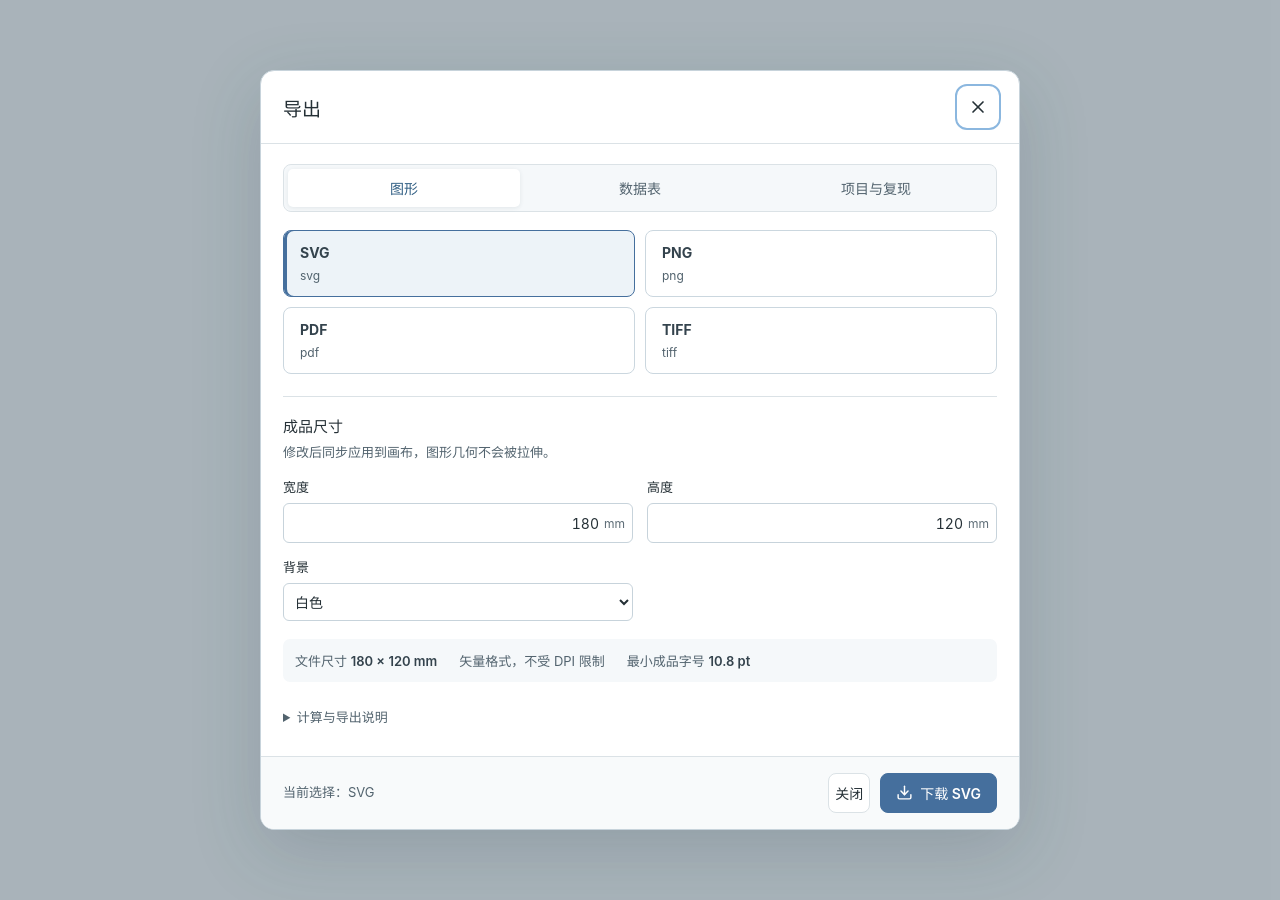
Test case: unified export settings › shows DPI only for raster and preserves settings when switching formats
The width and height of the screenshot is (1280, 900).
expect the field labelled "位图分辨率 DPI" is not shown: met
Click the button "PNG png": {"x": 677, "y": 253} [645,230,997,297]
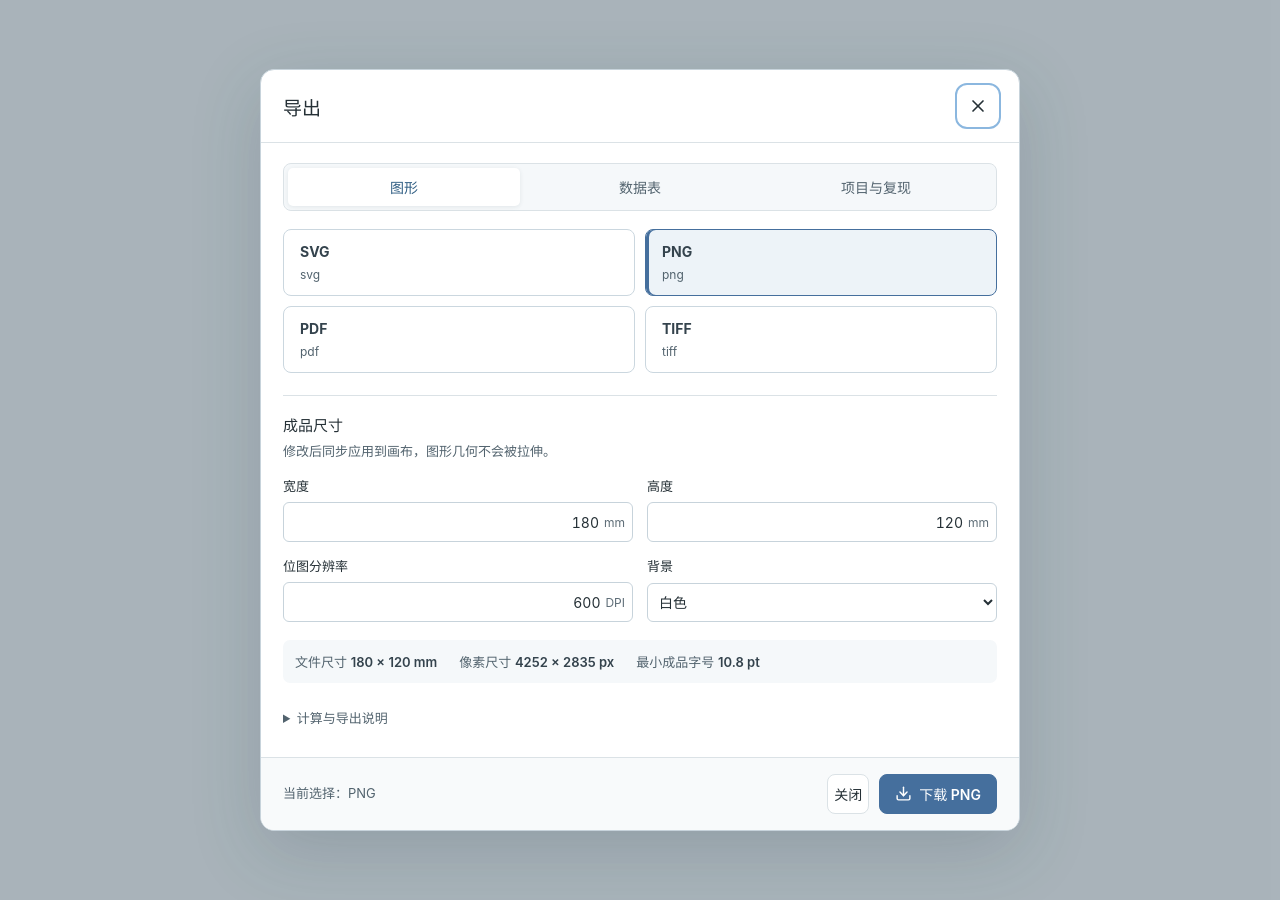
Replace the text in the number field labelled "位图分辨率 DPI" with "300": {"x": 445, "y": 602} [284,583,606,621]
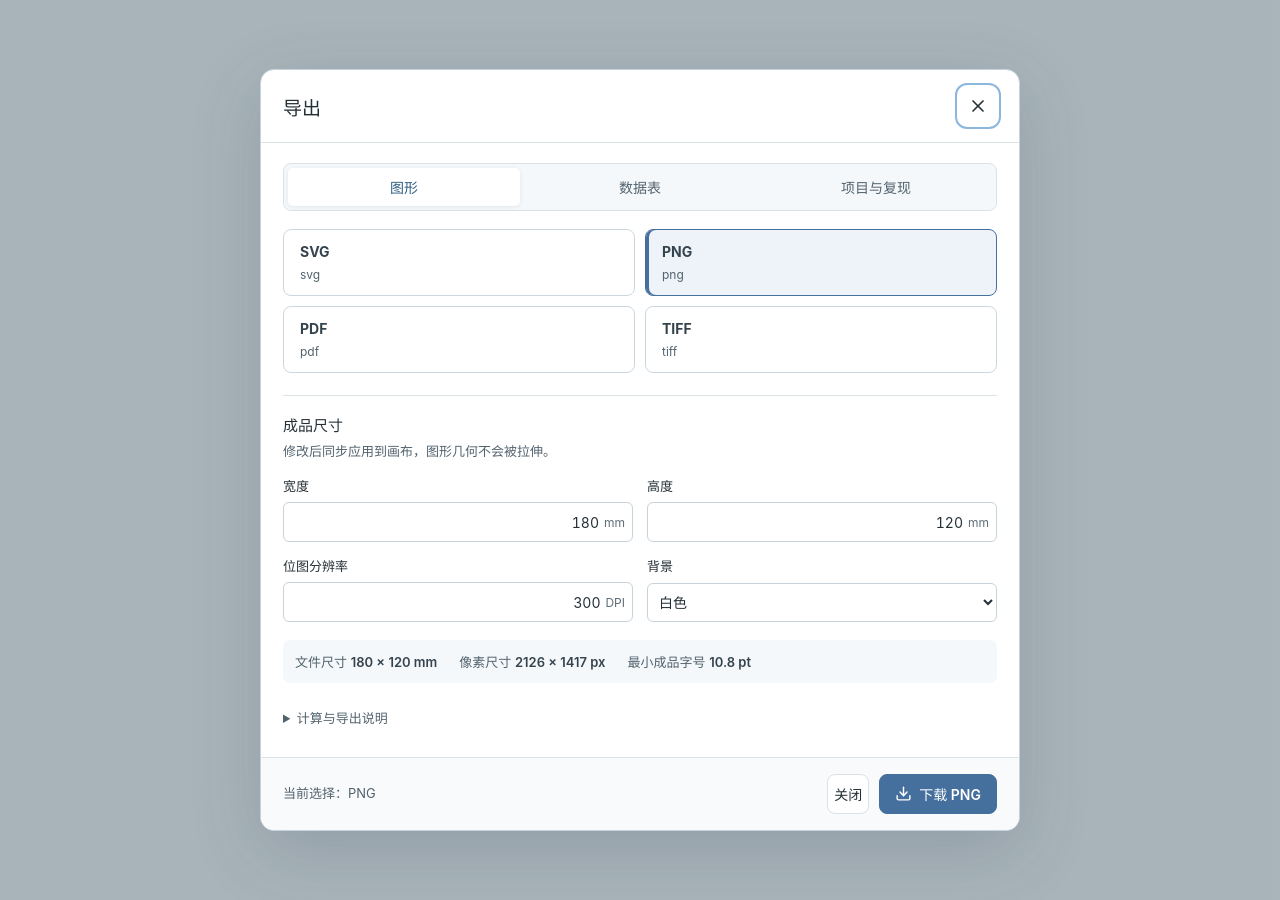
Replace the text in the number field named "成品宽度 mm" with "210": {"x": 444, "y": 522} [284,503,604,541]
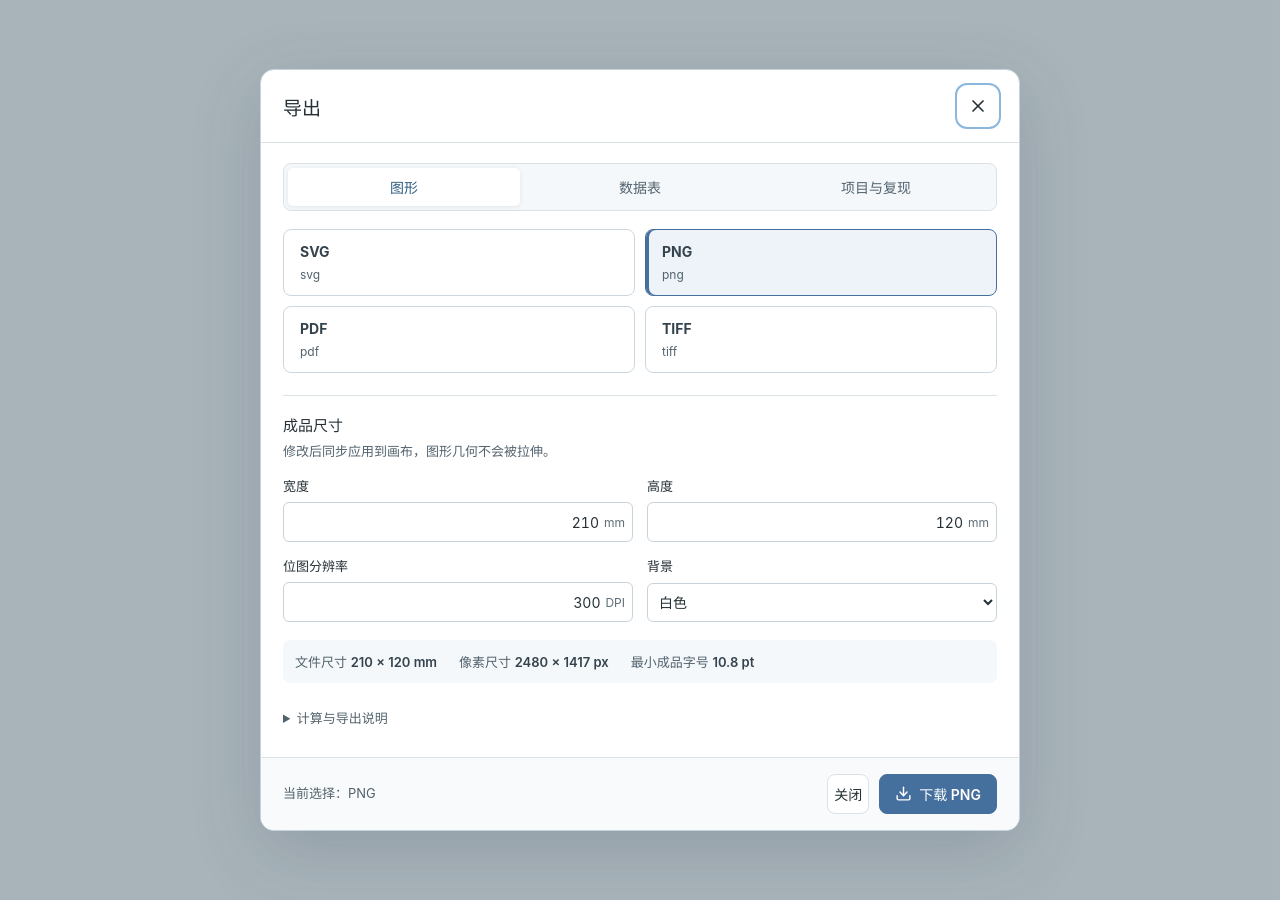
Click the button "SVG svg": {"x": 315, "y": 252} [283,229,635,296]
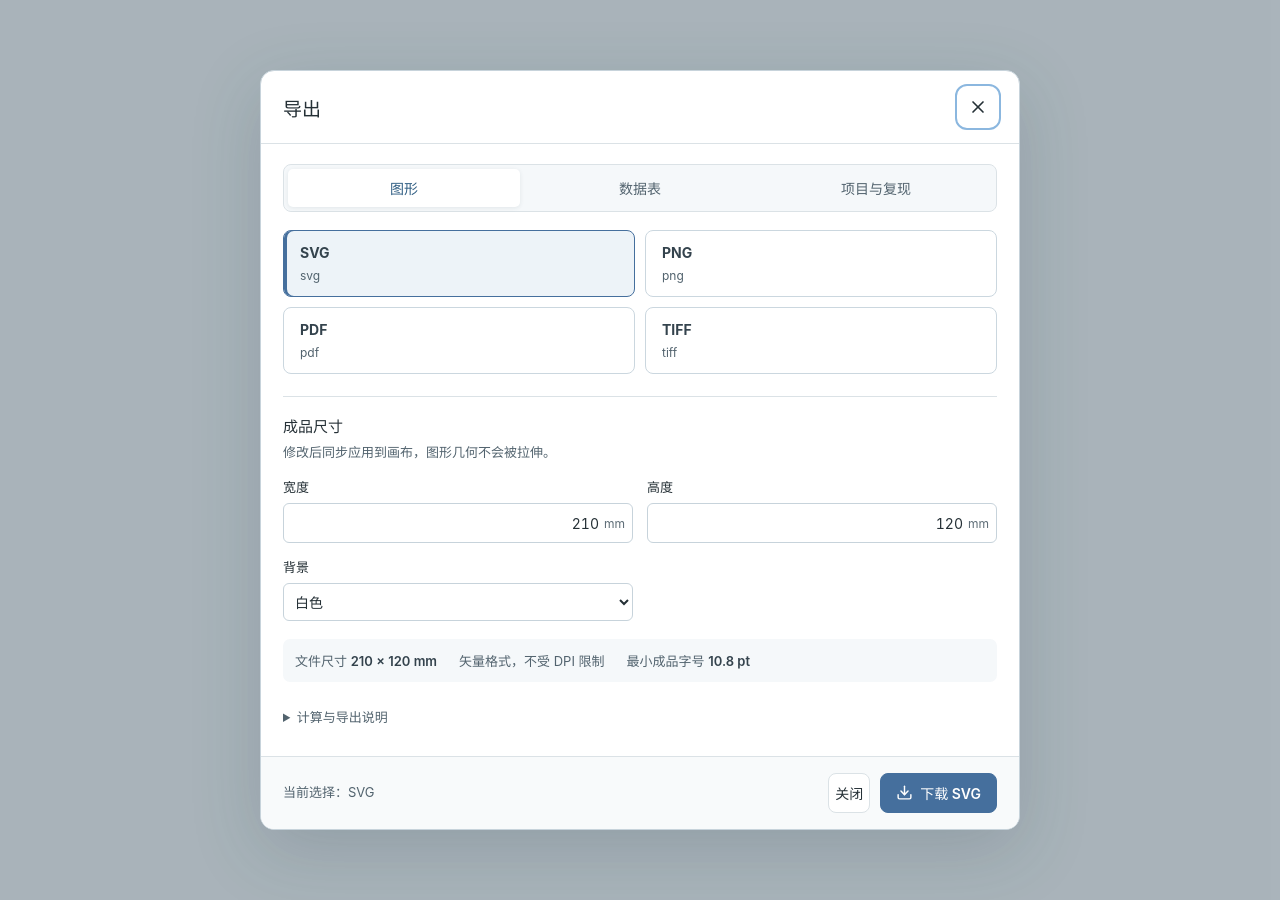
expect the label labelled "位图分辨率 DPI" is gone: met
Click the button "TIFF tiff": {"x": 677, "y": 330} [645,307,997,374]
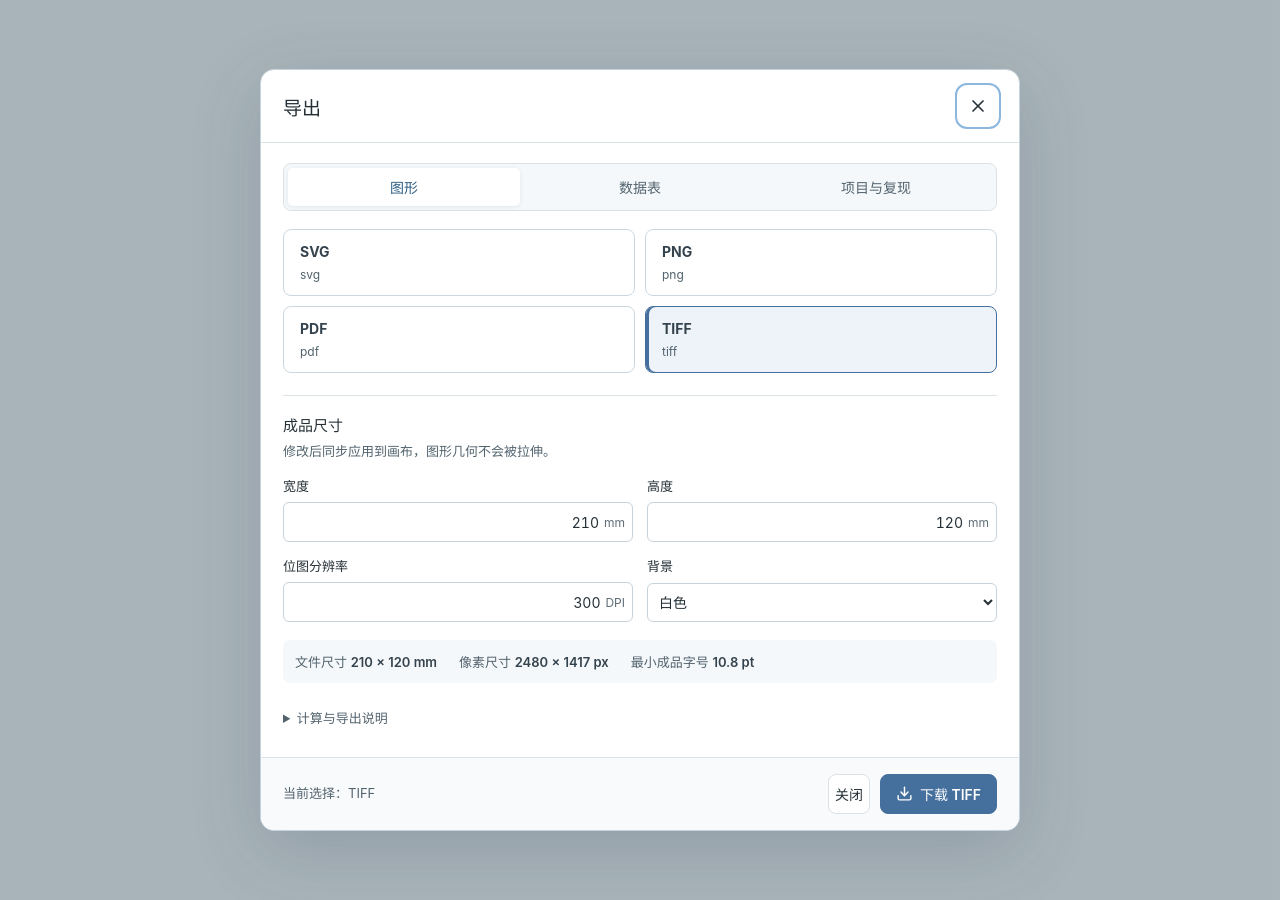
expect the number field labelled "位图分辨率 DPI" holds "300": met, box [284,583,606,621]
Click the button "数据表": {"x": 640, "y": 187} [524,168,756,206]
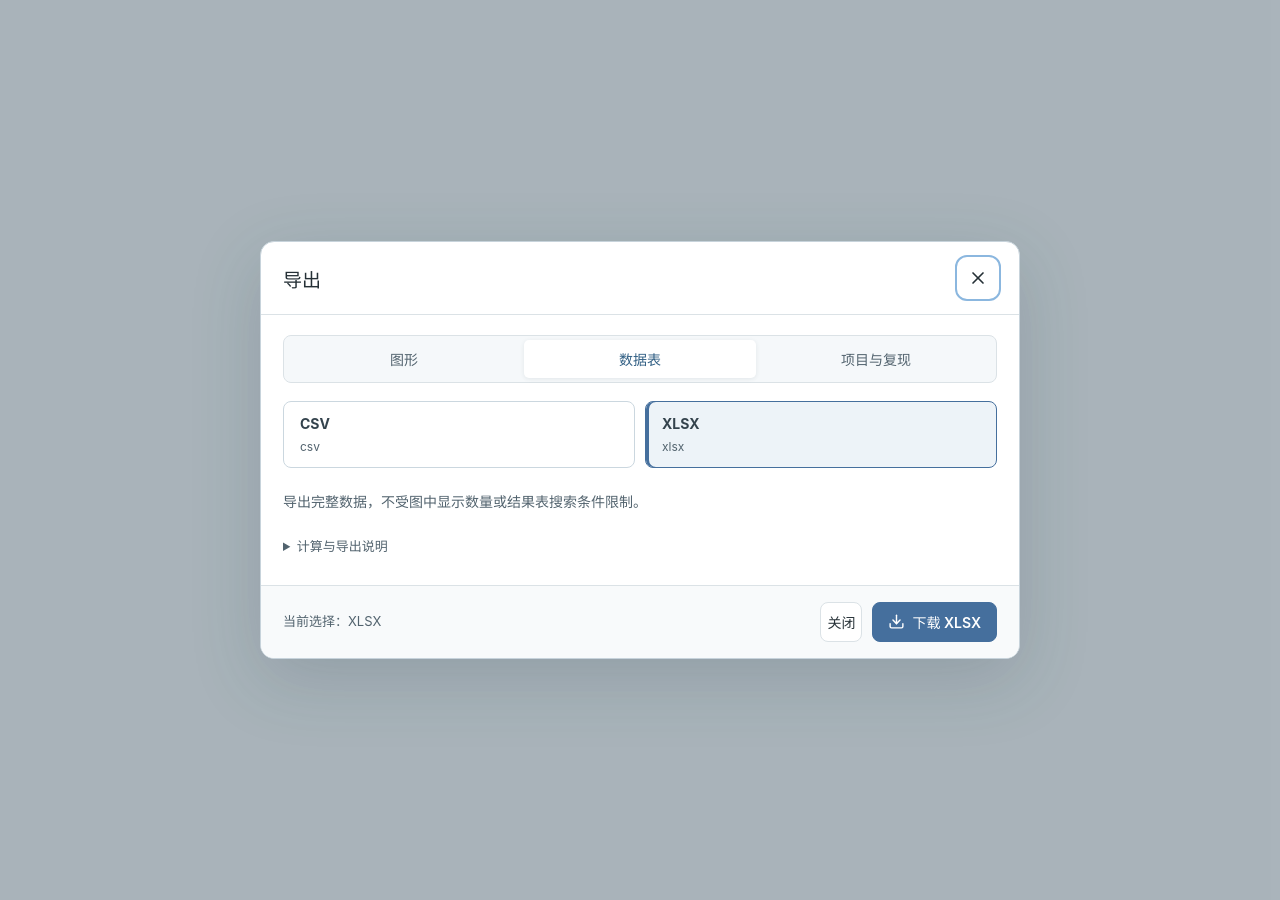
expect the heading "成品尺寸" is gone: met
expect the button "下载 XLSX" is shown: met, box [872,602,997,642]
